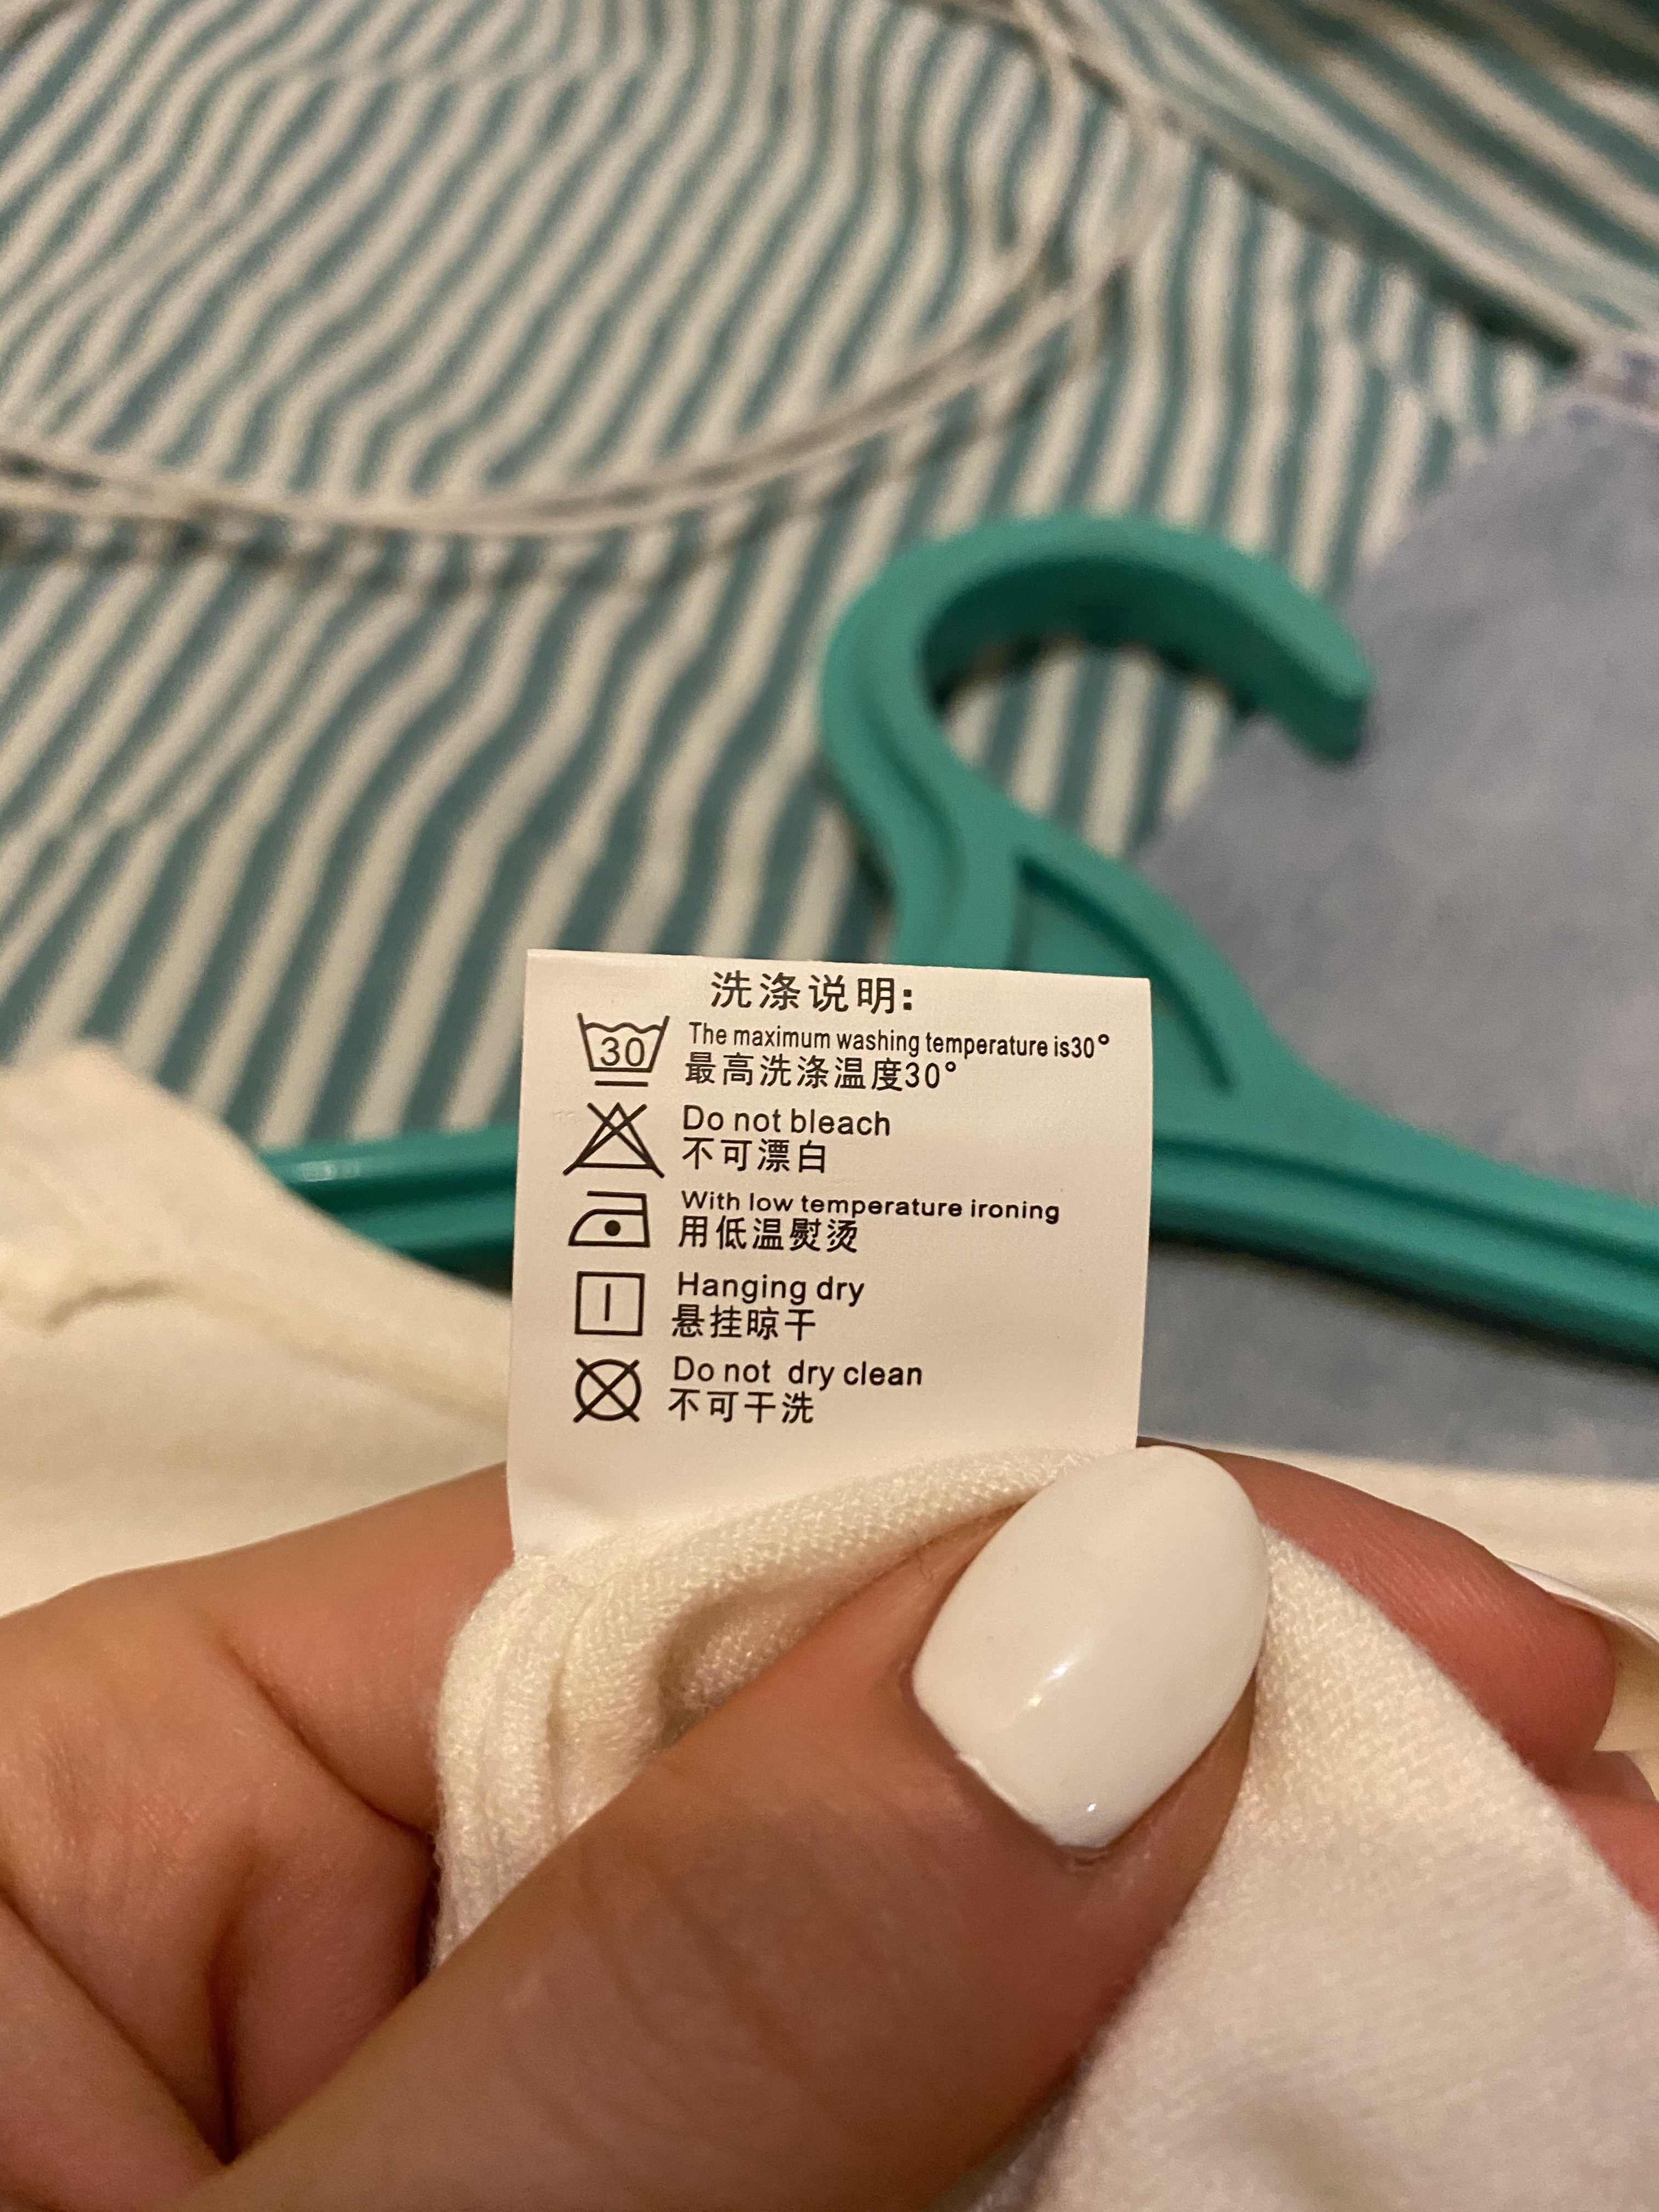do_not_bleach: (559, 1101, 664, 1186)
do_not_dry_clean: (566, 1350, 647, 1430)
ironing_at_low_temp: (565, 1188, 660, 1258)
line_dry: (565, 1261, 653, 1343)
wash_at_or_below_30_mild_fine_wash: (566, 1010, 678, 1097)
